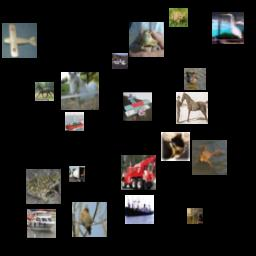airplane: (2, 23, 37, 58), (123, 92, 152, 121)
automobile: (112, 53, 128, 69)
bird: (72, 202, 107, 237), (212, 12, 244, 44), (184, 68, 206, 90)
cat: (161, 132, 190, 161), (187, 208, 203, 224)
frog: (192, 140, 227, 175), (129, 22, 164, 57), (26, 169, 61, 204), (169, 8, 188, 27)
ship: (125, 195, 154, 224), (27, 209, 56, 238), (65, 112, 84, 131)
truck: (121, 155, 156, 190), (69, 166, 85, 182)
